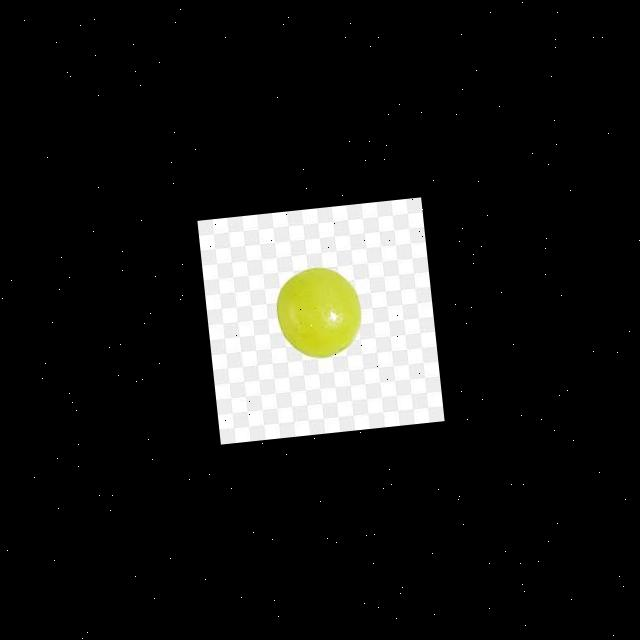grape: (271, 262, 364, 361)
